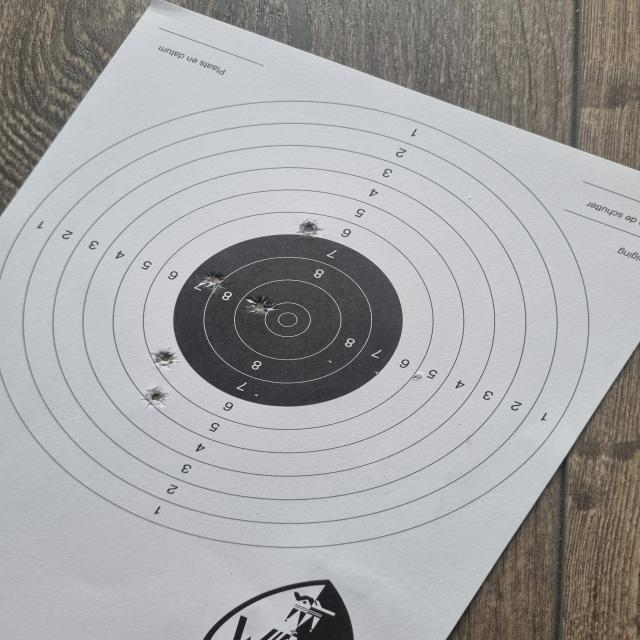10: (245, 294, 274, 316)
5: (141, 386, 173, 407)
6: (150, 348, 178, 369)
7: (297, 220, 325, 239)
8: (200, 270, 228, 290)
Target: (0, 103, 596, 555)
black_contour: (174, 235, 405, 406)
